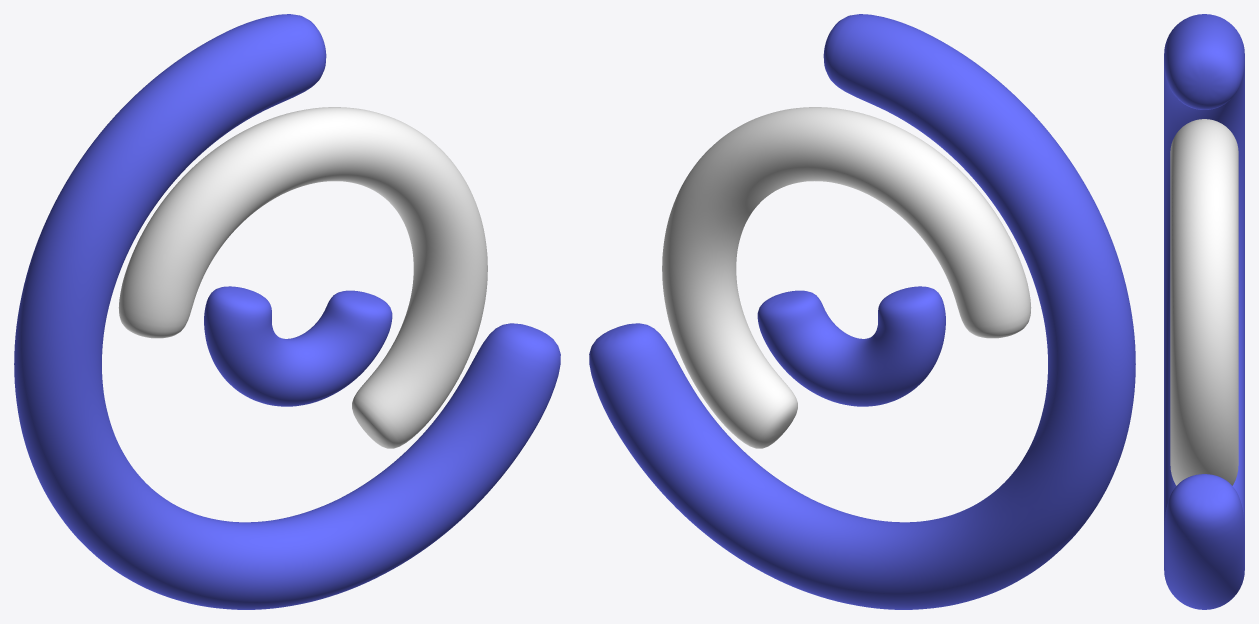
Rendered from rotating-line-circle-loading-animated-3d-icon-1173821181790.glb.
3 views of the same model, side by side, from view 1: azimuth 30°, elevation 25°; view 2: azimuth 150°, elevation 25°; view 3: azimuth 270°, elevation 25° (orthographic). The views are drawn at different scales.
Parts seen in each view (by area): view 1: Torus, Torus.001, Torus.002; view 2: Torus, Torus.001, Torus.002; view 3: Torus.001, Torus.
Part boxes in pixels (x1,y1,x2,y2): Torus: (14,14,560,609); Torus.001: (118,107,487,448); Torus.002: (204,286,392,406); Torus: (589,14,1135,609); Torus.001: (662,107,1031,448); Torus.002: (757,286,945,406); Torus.001: (1170,119,1238,485); Torus: (1164,14,1244,609).
Size of the model in its own units: 1.95 by 2.03 by 0.277.
